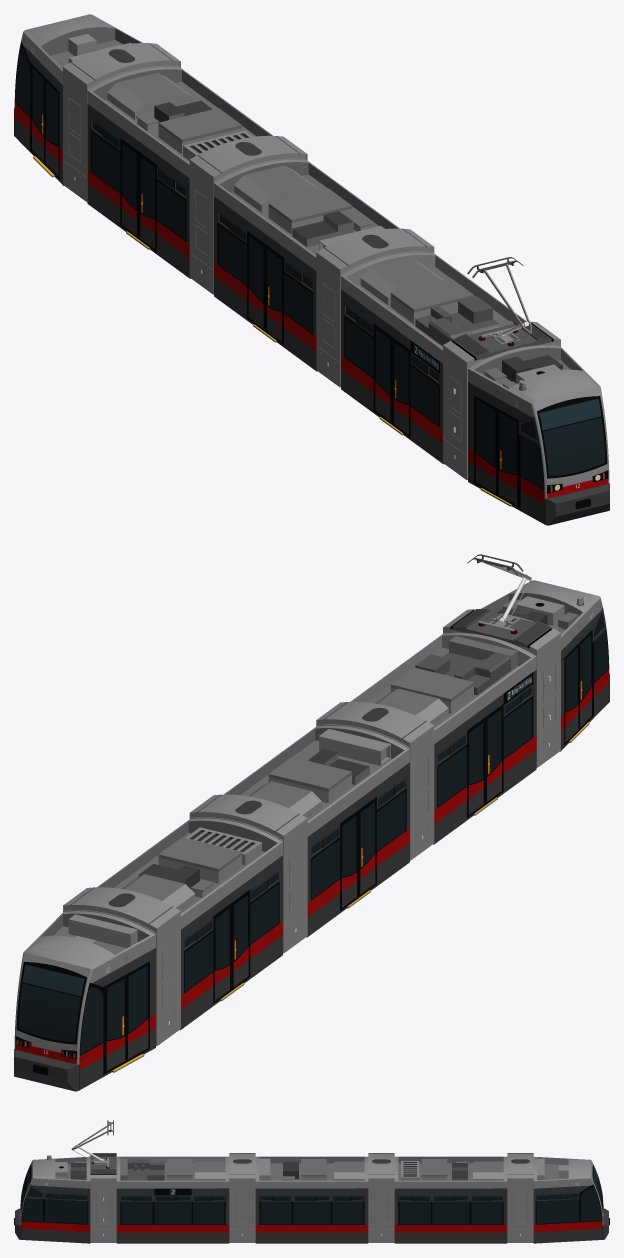
3 renders of one model, top to bottom at view 1: azimuth 30°, elevation 25°; view 2: azimuth 150°, elevation 25°; view 3: azimuth 270°, elevation 25°, orthographic. The views are drawn at different scales.
Visible parts, largest first — view 1: Group_039, Group_035, Group_002, Group_003, Group_037, Group_023, Group_027, Group_031, Group_010; view 2: Group_037, Group_002, Group_035, Group_003, Group_039, Group_027, Group_031, Group_023, Group_010; view 3: Group_002, Group_035, Group_003, Group_039, Group_037, Layer0_001, Group_031, Group_027, Group_023, Group_010.
Part boxes in pixels (x1=…): Group_039: x1=468, y1=345, x2=609, y2=525; Group_035: x1=341, y1=252, x2=526, y2=464; Group_002: x1=214, y1=159, x2=399, y2=371; Group_003: x1=87, y1=66, x2=271, y2=278; Group_037: x1=14, y1=14, x2=142, y2=185; Group_023: x1=316, y1=228, x2=434, y2=387; Group_027: x1=189, y1=135, x2=307, y2=294; Group_031: x1=63, y1=43, x2=180, y2=201; Group_010: x1=443, y1=321, x2=560, y2=479; Group_037: x1=14, y1=911, x2=155, y2=1091; Group_002: x1=224, y1=725, x2=409, y2=937; Group_035: x1=351, y1=632, x2=536, y2=844; Group_003: x1=99, y1=820, x2=282, y2=1030; Group_039: x1=481, y1=580, x2=609, y2=751; Group_027: x1=189, y1=794, x2=307, y2=953; Group_031: x1=63, y1=887, x2=180, y2=1045; Group_023: x1=316, y1=701, x2=434, y2=860; Group_010: x1=443, y1=609, x2=560, y2=767; Group_002: x1=255, y1=1156, x2=368, y2=1243; Group_035: x1=116, y1=1156, x2=229, y2=1243; Group_003: x1=394, y1=1156, x2=507, y2=1224; Group_039: x1=14, y1=1155, x2=90, y2=1243; Group_037: x1=533, y1=1156, x2=609, y2=1243; Layer0_001: x1=394, y1=1167, x2=507, y2=1243; Group_031: x1=507, y1=1153, x2=533, y2=1242; Group_027: x1=368, y1=1153, x2=394, y2=1242; Group_023: x1=229, y1=1153, x2=255, y2=1242; Group_010: x1=90, y1=1153, x2=116, y2=1242.
Size of the model in its own units: 2488 by 4891 by 24227.
